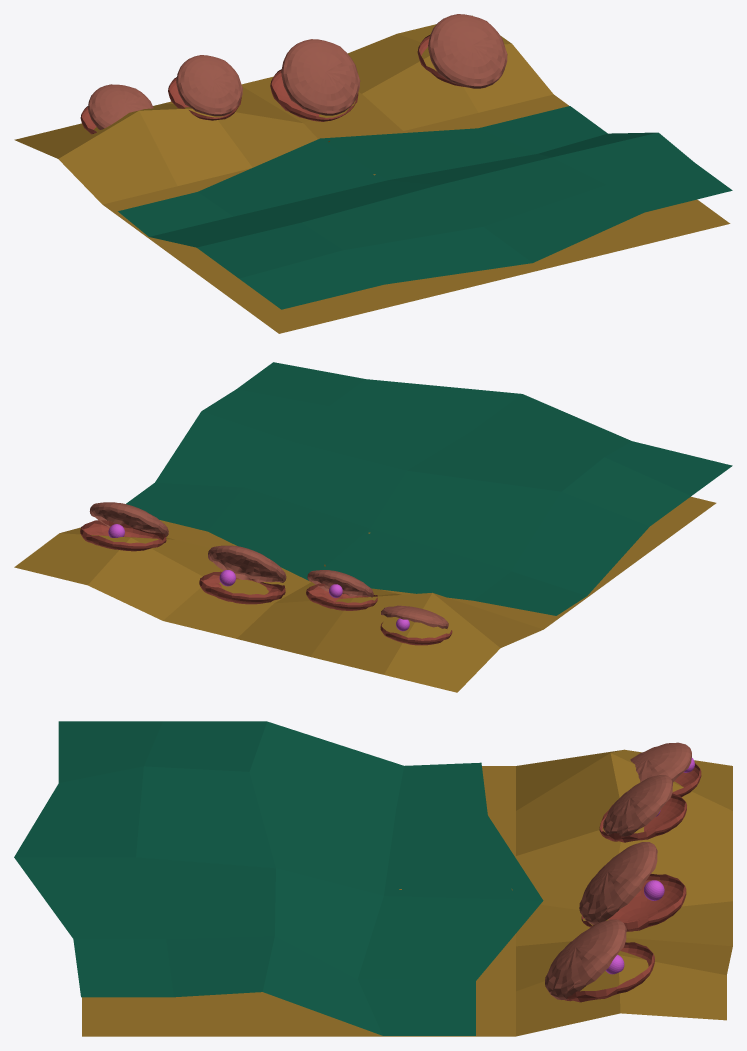
File: BeachTutorial.obj
3 views of the same model, one above another, from view 1: azimuth 30°, elevation 25°; view 2: azimuth 150°, elevation 25°; view 3: azimuth 270°, elevation 25° (orthographic). The views are drawn at different scales.
Visible parts, largest first — view 1: Plane, Sphere.003, Sphere, Sphere.006, Sphere.009, Sphere.004; view 2: Plane, Sphere.003, Sphere.001, Sphere, Sphere.004, Sphere.006, Sphere.007, Sphere.009, Sphere.010; view 3: Plane, Sphere, Sphere.003, Sphere.006, Sphere.004, Sphere.009, Sphere.007, Sphere.001, Sphere.010.
Boxes of the visible parts, x1,y1,x2,y2 form: Plane: [14, 15, 732, 333]; Sphere.003: [281, 39, 360, 115]; Sphere: [428, 14, 507, 88]; Sphere.006: [176, 55, 242, 116]; Sphere.009: [88, 84, 153, 129]; Sphere.004: [270, 69, 358, 121]; Plane: [14, 362, 732, 692]; Sphere.003: [208, 545, 286, 582]; Sphere.001: [80, 520, 166, 551]; Sphere: [89, 502, 168, 536]; Sphere.004: [199, 571, 285, 604]; Sphere.006: [307, 570, 373, 597]; Sphere.007: [306, 583, 377, 610]; Sphere.009: [381, 605, 448, 628]; Sphere.010: [380, 622, 452, 645]; Plane: [14, 721, 732, 1036]; Sphere: [545, 919, 626, 999]; Sphere.003: [579, 842, 657, 924]; Sphere.006: [603, 775, 672, 840]; Sphere.004: [581, 874, 686, 931]; Sphere.009: [630, 742, 691, 782]; Sphere.007: [599, 793, 686, 842]; Sphere.001: [564, 942, 654, 1002]; Sphere.010: [672, 763, 701, 797].
Size of the model in its own units: 589 by 84.1 by 645.
